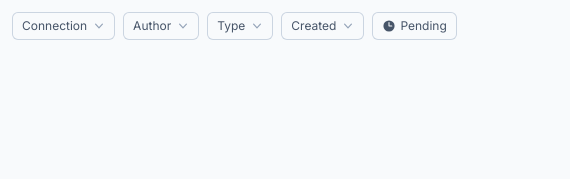
Scenario: RequestFilterBar › selection semantics › toggles connections in and out of the multiselect
What coordinates should you click on to do the following:
click the button with test id "filter-connection"
I would click on:
 (64, 26)
Its box is [12, 12, 115, 40].
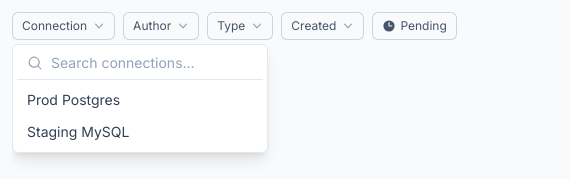
What coordinates should you click on to do the following:
click the button with test id "filter-connection-Prod Postgres"
I would click on:
 (140, 100)
Its box is [17, 84, 263, 116].
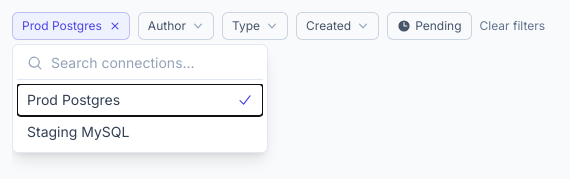
Check: the button with test id "filter-connection" reads "Prod Postgres", box [12, 12, 130, 40]
What coordinates should you click on to do the following:
click the button with test id "filter-connection-Staging MySQL"
I would click on:
 (140, 132)
Its box is [17, 116, 263, 148].
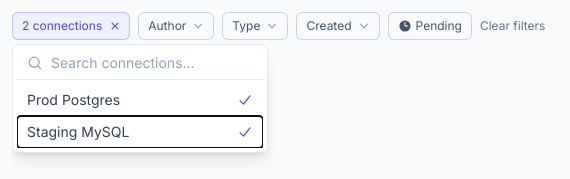
Check: the button with test id "filter-connection" reads "2 connections", box [12, 12, 130, 40]
What coordinates should you click on to do the following:
click the button with test id "filter-connection-Prod Postgres"
I would click on:
 (140, 100)
Its box is [17, 84, 263, 116].
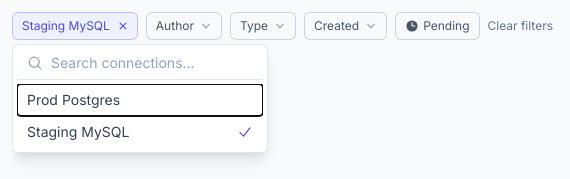
Check: the button with test id "filter-connection" reads "Staging MySQL", box [12, 12, 138, 40]
